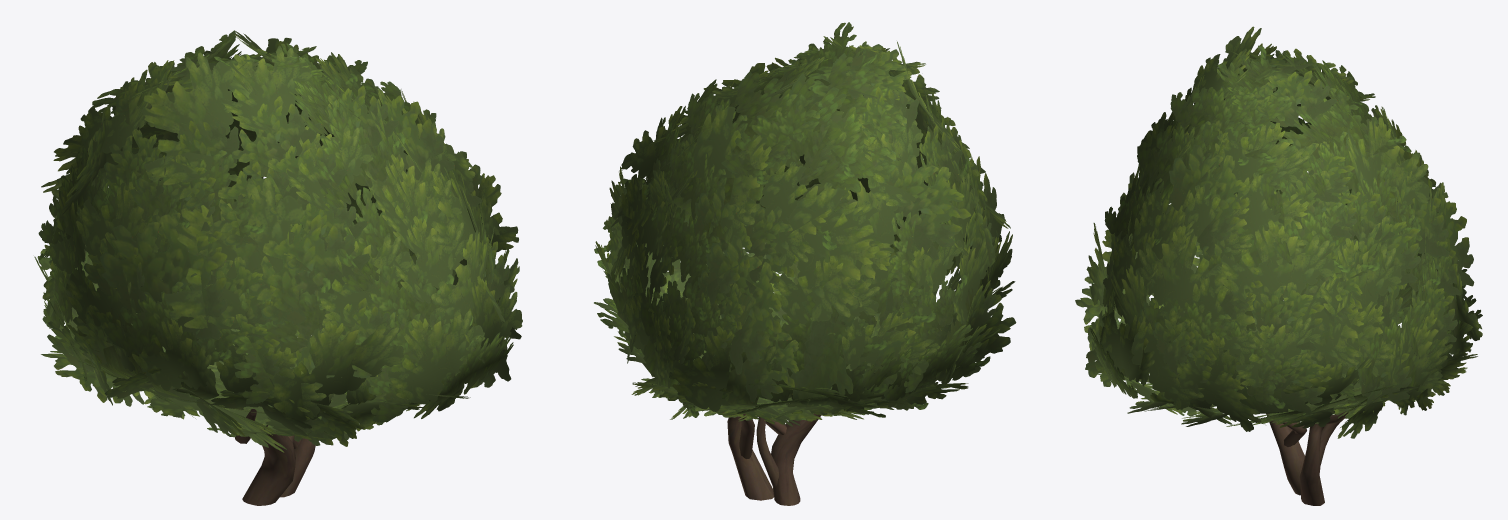
File: BushBerries_1.glb
The picture shows the model from 3 angles, left to right: view 1: azimuth 30°, elevation 25°; view 2: azimuth 150°, elevation 25°; view 3: azimuth 270°, elevation 25°; orthographic projection. The views are drawn at different scales.
Parts seen in each view (by area): view 1: Foliage_8_BushACanopy_LOD0, Foliage_8_BushA_LOD0; view 2: Foliage_8_BushACanopy_LOD0, Foliage_8_BushA_LOD0; view 3: Foliage_8_BushACanopy_LOD0, Foliage_8_BushA_LOD0.
Boxes of the visible parts, <box> form: Foliage_8_BushACanopy_LOD0: <box>34,30,522,452</box>; Foliage_8_BushA_LOD0: <box>56,55,504,505</box>; Foliage_8_BushACanopy_LOD0: <box>594,22,1016,426</box>; Foliage_8_BushA_LOD0: <box>618,66,991,505</box>; Foliage_8_BushACanopy_LOD0: <box>1075,26,1482,438</box>; Foliage_8_BushA_LOD0: <box>1113,67,1460,505</box>.
Size of the model in its own units: 1.7 by 1.73 by 1.6.
3 materials, 3 textured.
